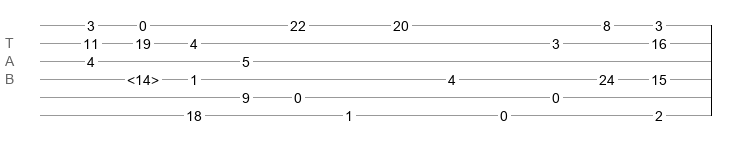0: (139, 18, 147, 28), (294, 90, 302, 100), (500, 108, 508, 118), (552, 90, 560, 100)
1: (190, 72, 198, 82), (345, 108, 353, 118)
11: (83, 36, 99, 46)
15: (651, 72, 667, 82)
16: (651, 36, 667, 46)
18: (186, 108, 202, 118)
19: (135, 36, 151, 46)
2: (655, 108, 663, 118)
20: (393, 18, 409, 28)
22: (290, 18, 306, 28)
24: (599, 72, 615, 82)
3: (87, 18, 95, 28), (552, 36, 560, 46), (655, 18, 663, 28)
4: (87, 54, 95, 64), (190, 36, 198, 46), (448, 72, 456, 82)
5: (242, 54, 250, 64)
8: (603, 18, 611, 28)
9: (242, 90, 250, 100)
harmonic: (127, 72, 159, 82)
